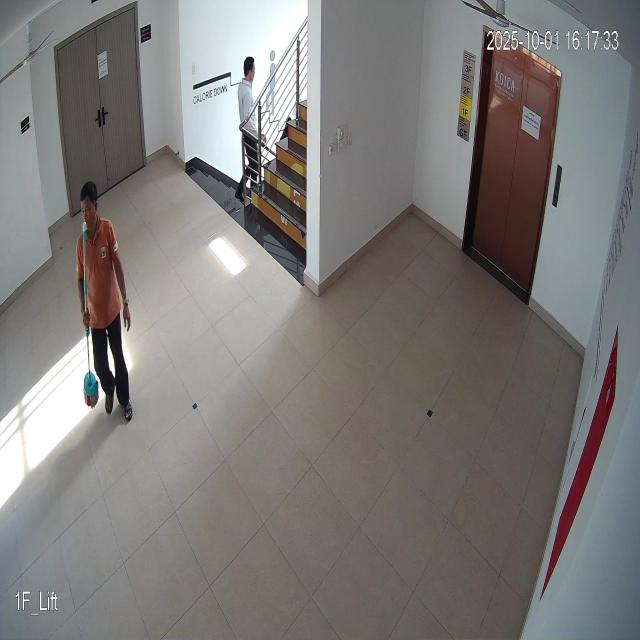face: (76, 177, 101, 229)
